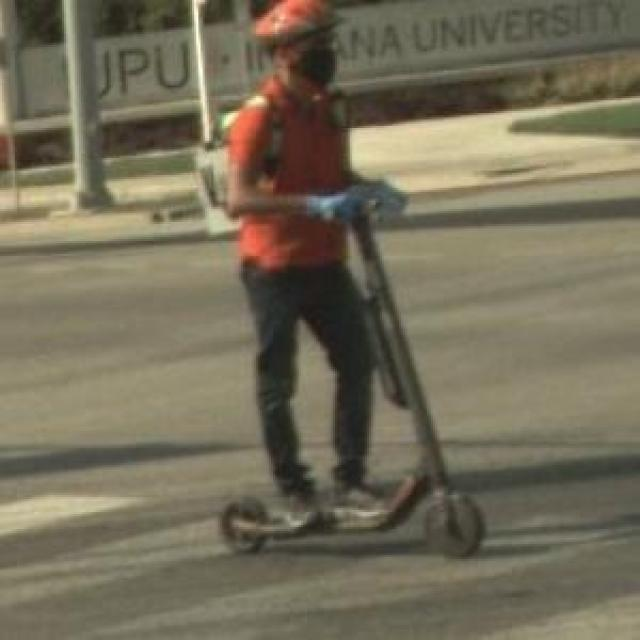pedestrian: (220, 0, 486, 559)
